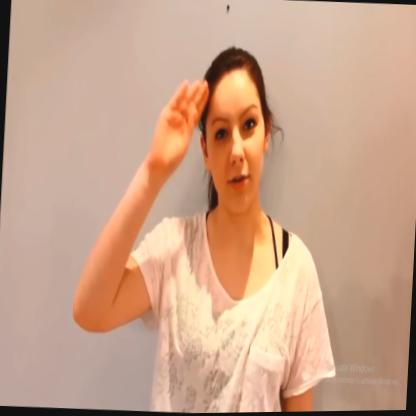Hello: (152, 30, 288, 235)
